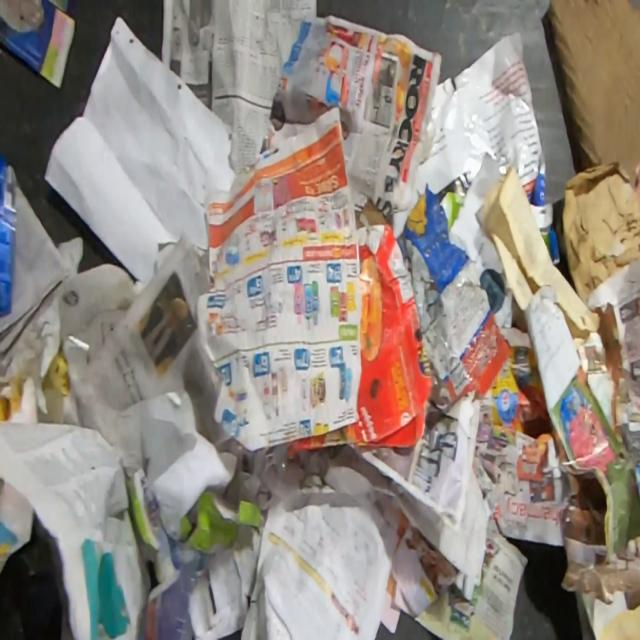cardboard: (284, 223, 434, 459), (396, 182, 514, 403), (549, 0, 640, 196), (124, 463, 263, 586)
rigid_plastic: (0, 153, 18, 317)
